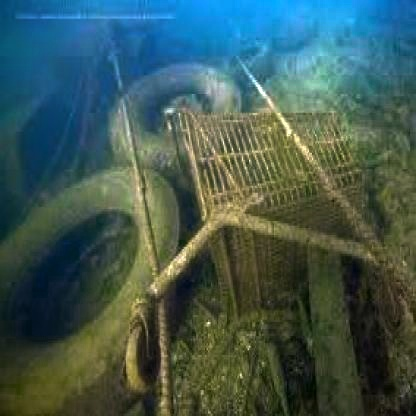metal: (188, 118, 388, 312)
tire: (10, 162, 186, 416), (119, 47, 254, 197)
